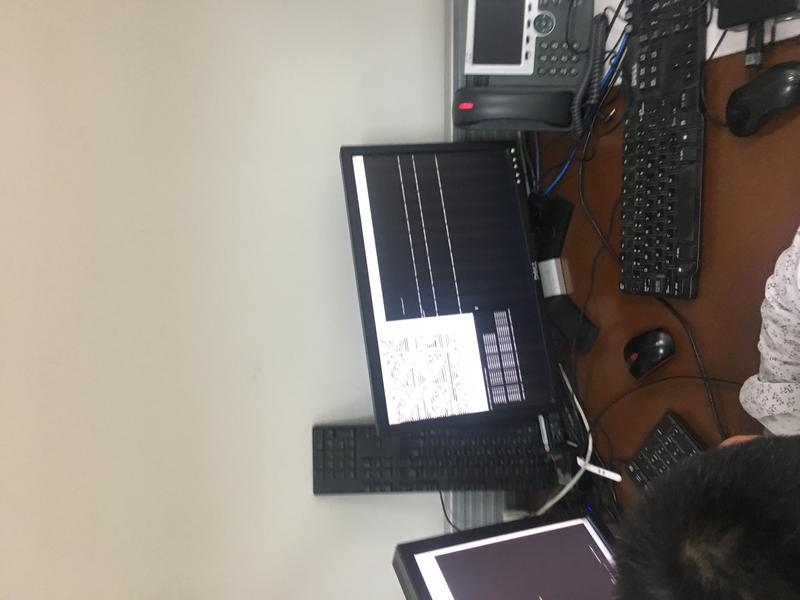xrandr_pass: (367, 316, 493, 426)
